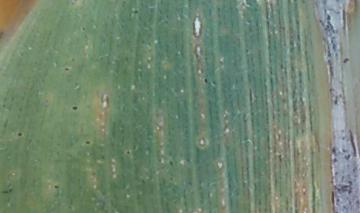tarspot: (70, 103, 79, 112), (132, 7, 140, 16), (167, 160, 175, 168), (123, 149, 132, 156), (52, 183, 60, 190), (84, 139, 91, 147), (203, 77, 209, 86), (81, 25, 87, 32), (65, 65, 70, 73), (17, 132, 23, 138)
